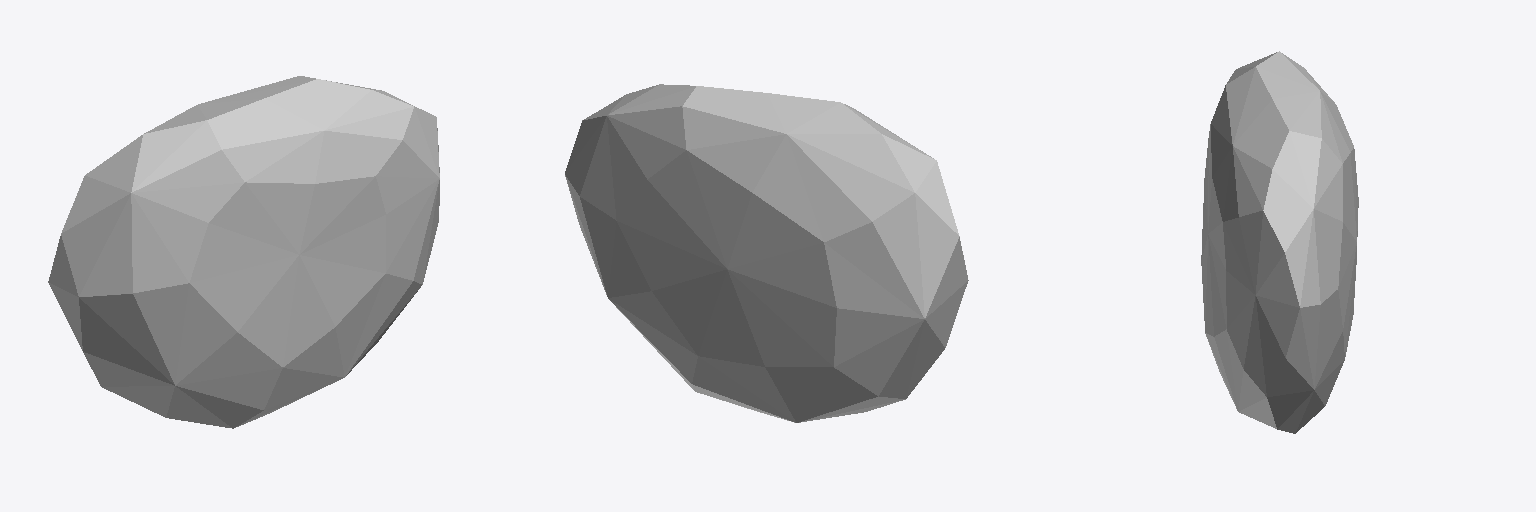
The model's file is cloud.obj.
The picture shows the model from 3 angles: view 1: azimuth 30°, elevation 25°; view 2: azimuth 150°, elevation 25°; view 3: azimuth 270°, elevation 25°; orthographic projection.
Visible parts, largest first — view 1: Icosphere; view 2: Icosphere; view 3: Icosphere.
Boxes of the visible parts, <box> form: Icosphere: <box>48,76,439,428</box>; Icosphere: <box>565,84,968,422</box>; Icosphere: <box>1201,51,1358,433</box>.
Bounding box in the file's own units: 408 × 322 × 144.